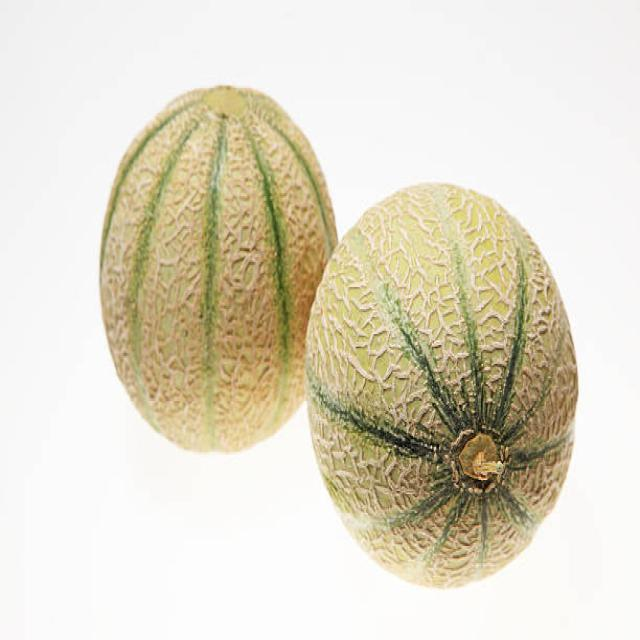cantaloupe: (306, 177, 578, 591), (100, 83, 337, 452)
